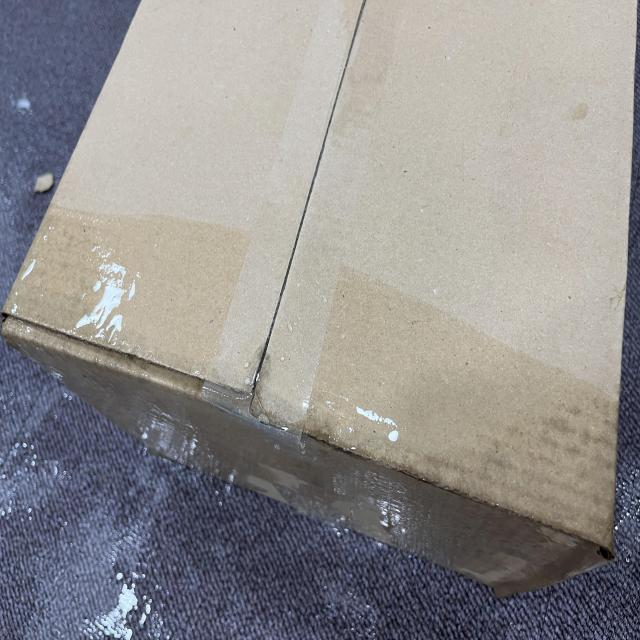wet: (32, 124, 619, 601)
